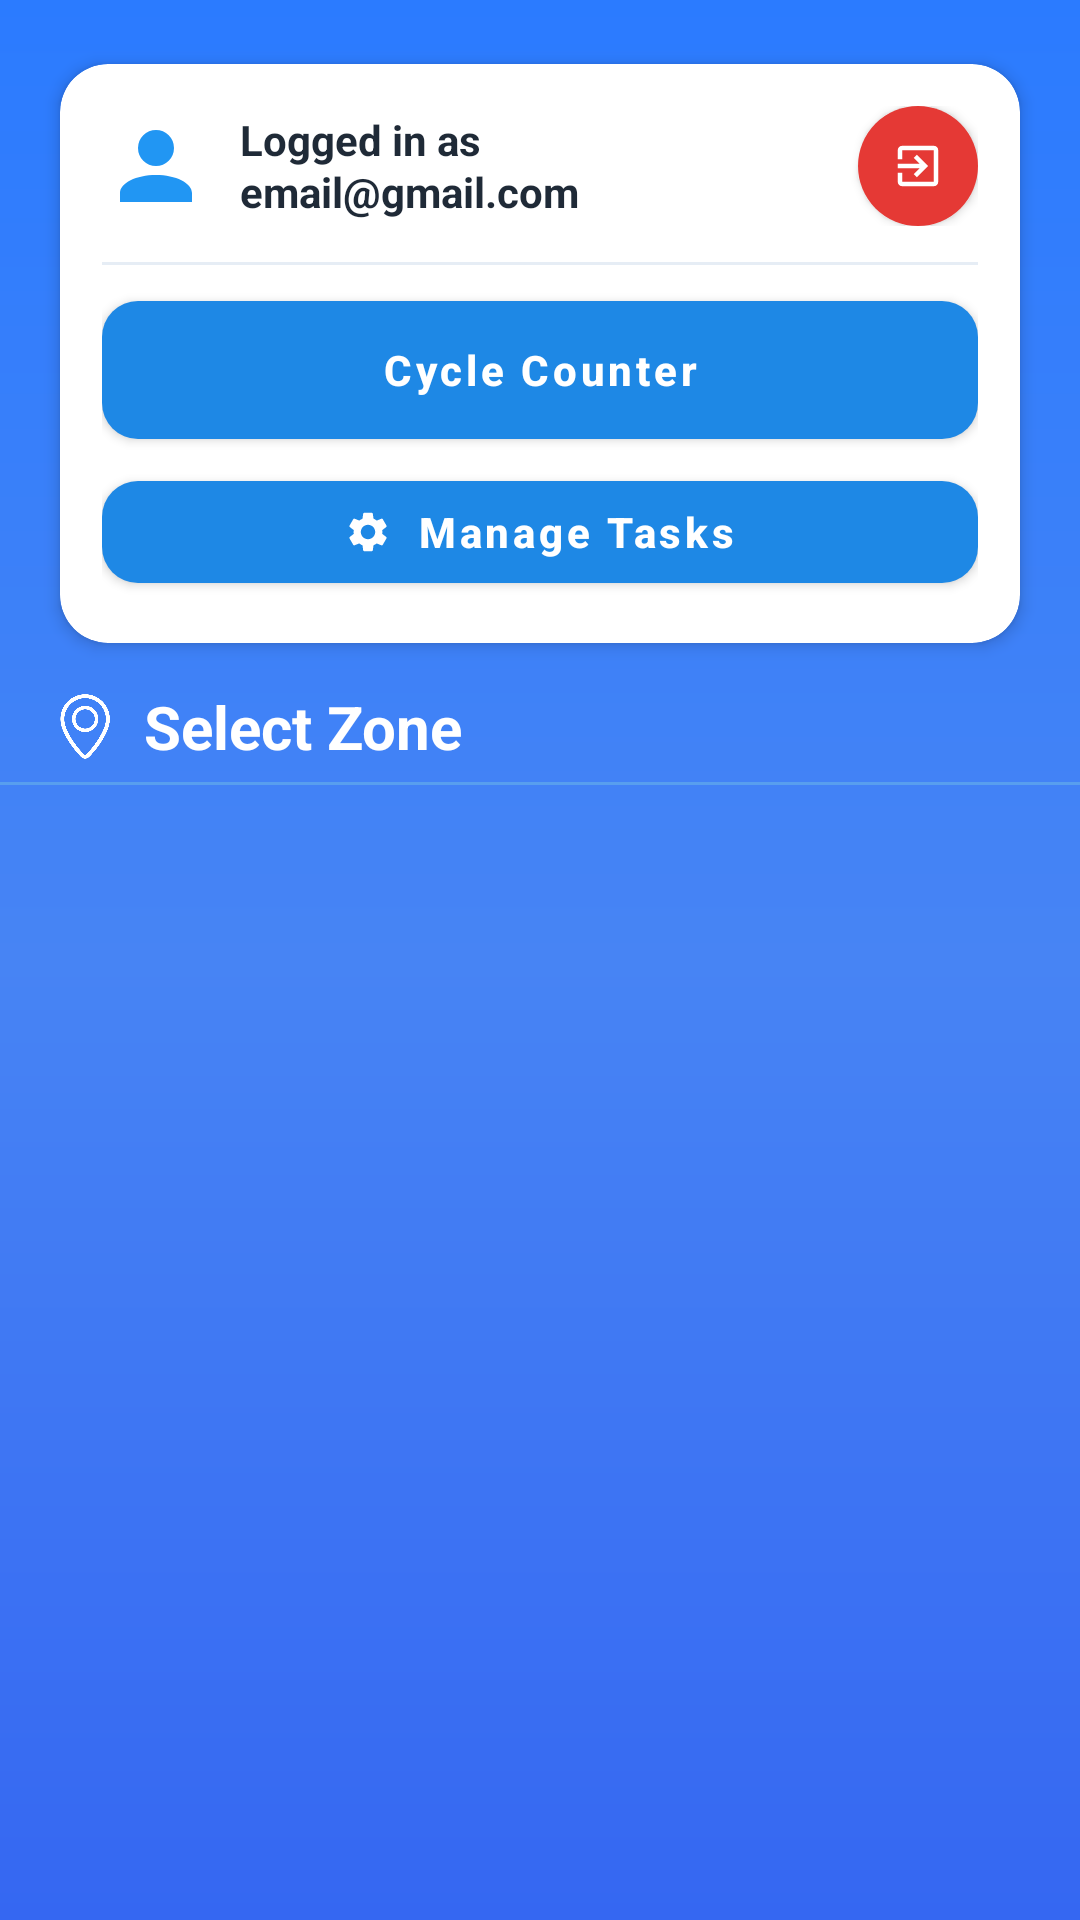

Screen size 1080x1920. Icon name, then its box in pixels as (x1, y1, x2, y2):
location icon: (60, 694, 110, 759)
